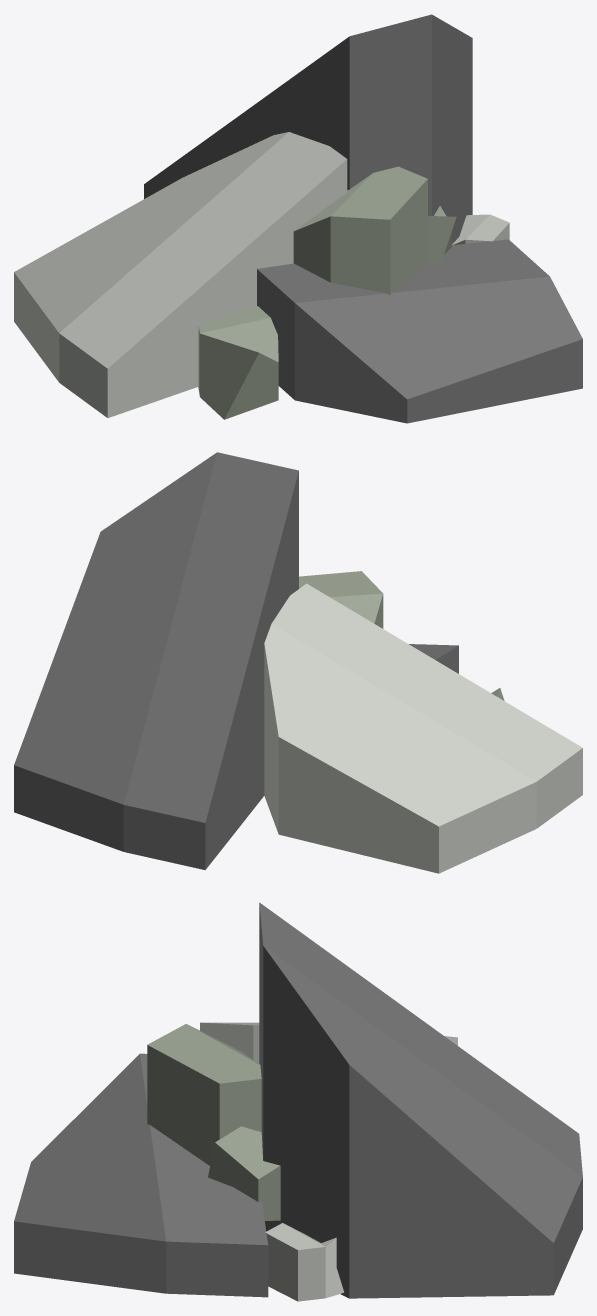
File: rock-type5-02-green.glb
The picture shows the model from 3 angles, top to bottom: view 1: azimuth 30°, elevation 25°; view 2: azimuth 150°, elevation 25°; view 3: azimuth 270°, elevation 25°; orthographic projection. The views are drawn at different scales.
Parts seen in each view (by area): view 1: Rock_Type5_02_mesh; view 2: Rock_Type5_02_mesh; view 3: Rock_Type5_02_mesh.
Boxes of the visible parts, x1,y1,x2,y2 form: Rock_Type5_02_mesh: (14,14,582,423); Rock_Type5_02_mesh: (14,452,582,873); Rock_Type5_02_mesh: (14,902,582,1301).
Bounding box in the file's own units: 2.26 × 1.44 × 2.36.
Materials: 1 (1 with a texture image).
